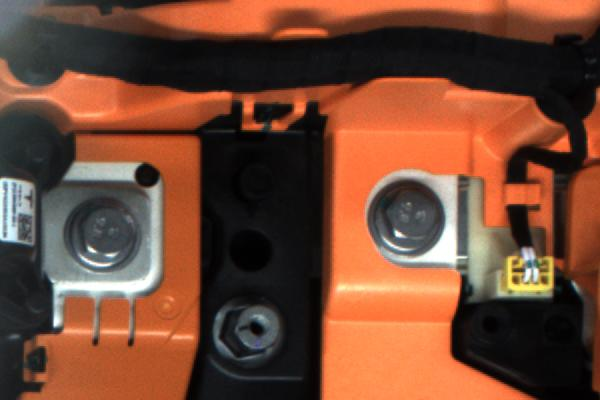nut_b: (360, 173, 447, 267), (57, 192, 138, 282)
